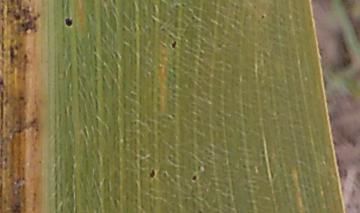tarspot: (19, 8, 40, 35), (63, 15, 74, 28), (8, 43, 15, 63), (168, 40, 178, 49), (12, 13, 21, 22), (189, 174, 199, 182), (148, 168, 155, 179), (173, 2, 181, 10), (169, 112, 176, 119), (259, 14, 267, 20), (240, 163, 247, 169), (179, 1, 186, 7), (18, 95, 24, 101), (22, 53, 28, 59), (189, 14, 196, 19), (1, 79, 5, 87), (34, 127, 40, 132), (197, 209, 202, 213), (27, 1, 32, 4)
